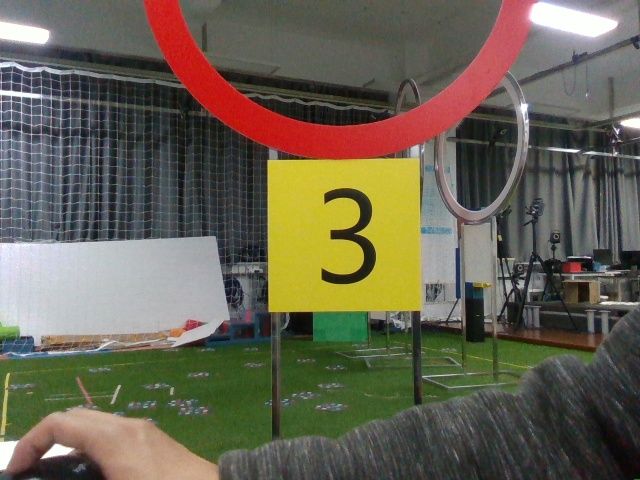target: (270, 160, 420, 307)
